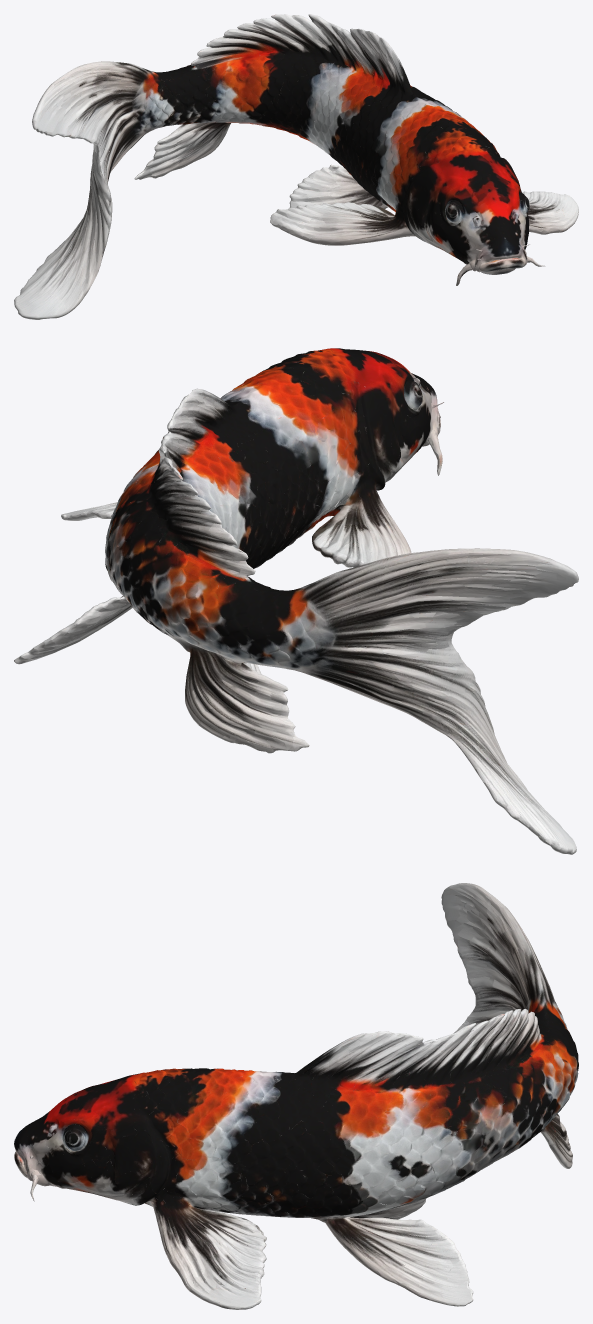
The model's file is showa.glb.
3 renders of one model, top to bottom at view 1: azimuth 30°, elevation 25°; view 2: azimuth 150°, elevation 25°; view 3: azimuth 270°, elevation 25°, orthographic. The views are drawn at different scales.
Visible parts, largest first — view 1: Mesh_0; view 2: Mesh_0; view 3: Mesh_0.
Boxes of the visible parts, x1,y1,x2,y2 form: Mesh_0: (14,14,578,319); Mesh_0: (14,348,578,854); Mesh_0: (14,883,578,1309).
Bounding box in the file's own units: 1.9 × 0.9104 × 1.7.
1 material, 1 textured.
